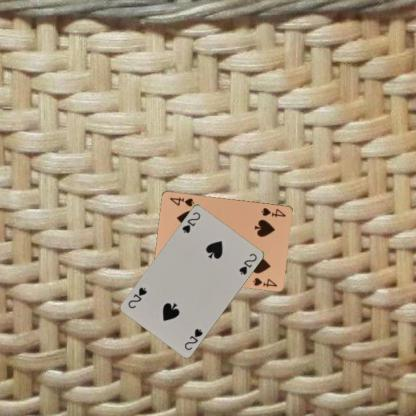2s: (179, 209, 202, 234), (182, 326, 204, 351)
4s: (259, 205, 287, 219)
